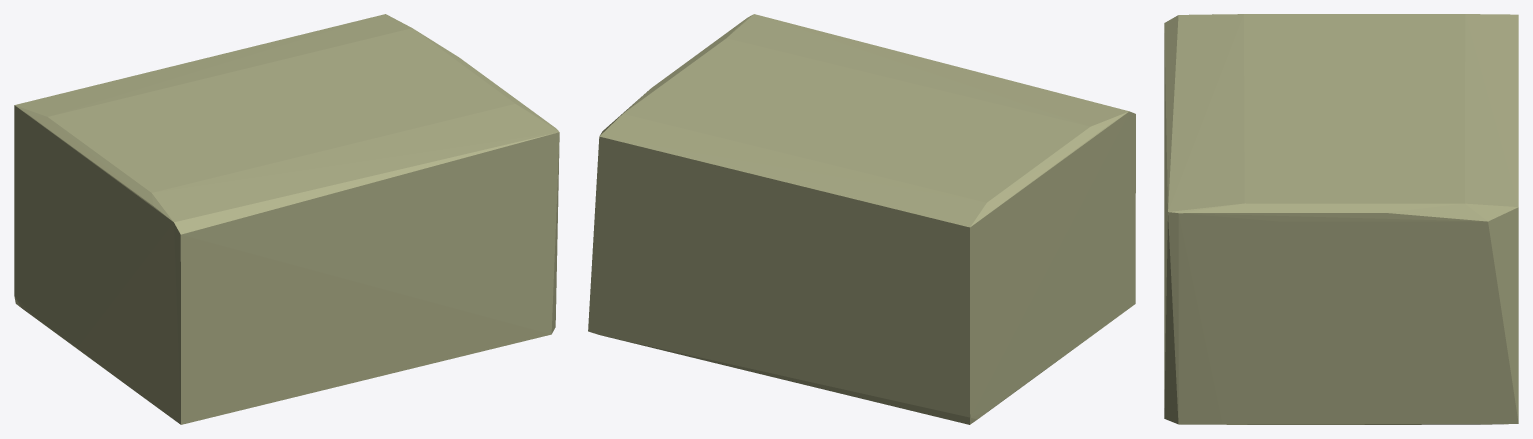
Rendered from rack_large_empty_a02.glb.
3 views of the same model, side by side, from view 1: azimuth 30°, elevation 25°; view 2: azimuth 150°, elevation 25°; view 3: azimuth 270°, elevation 25° (orthographic). The views are drawn at different scales.
Visible parts, largest first — view 1: geometry_0; view 2: geometry_0; view 3: geometry_0.
Boxes of the visible parts, x1,y1,x2,y2 form: geometry_0: (14,14,559,424); geometry_0: (588,14,1135,424); geometry_0: (1164,14,1518,424).
Bounding box in the file's own units: 0.48 × 0.248 × 0.3612.
